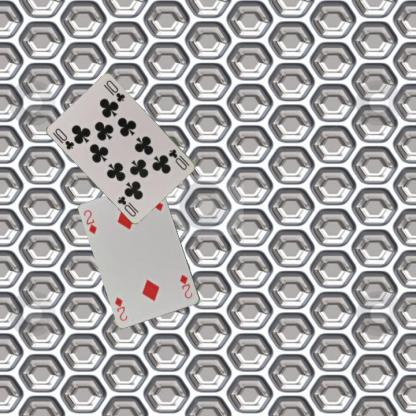10c: (50, 126, 76, 152), (166, 146, 190, 172)
2d: (178, 271, 194, 300), (82, 208, 99, 235)
